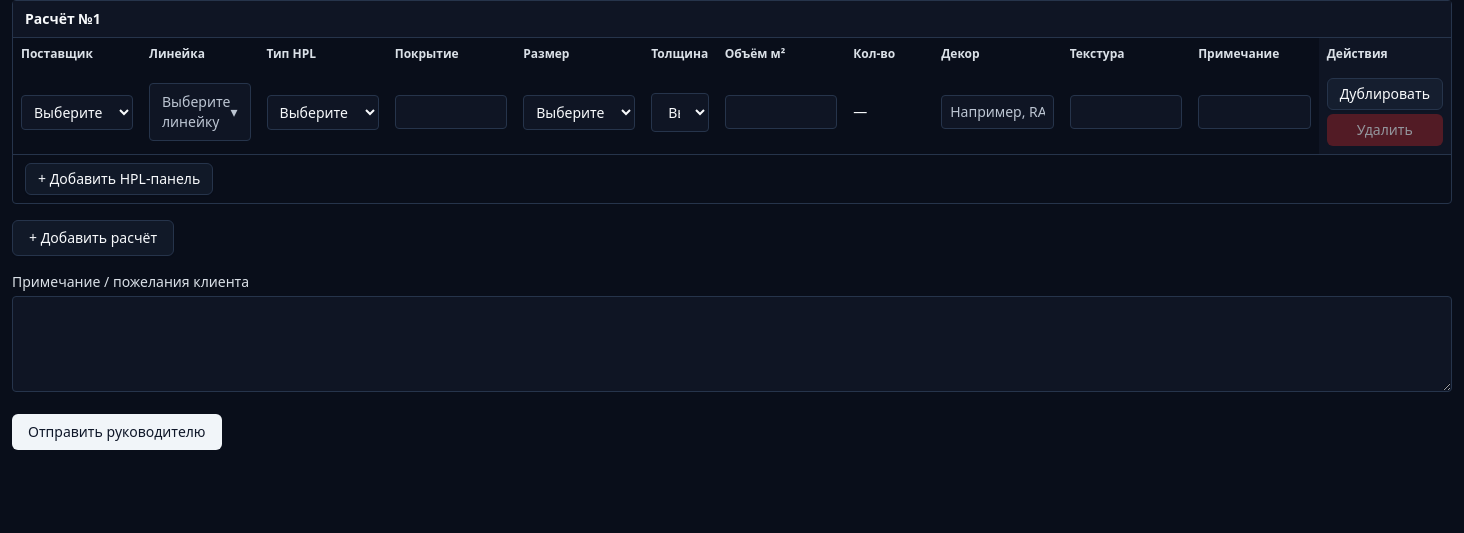
Scenario: CalculationRequestForm › shows customTypeDescription for catalog type other
Expected: the field labelled "Описание нестандартного типа" is not shown
Select "Другой" in the dropdown named "Тип HPL, строка 1" at (323, 112), box [267,94,379,130]
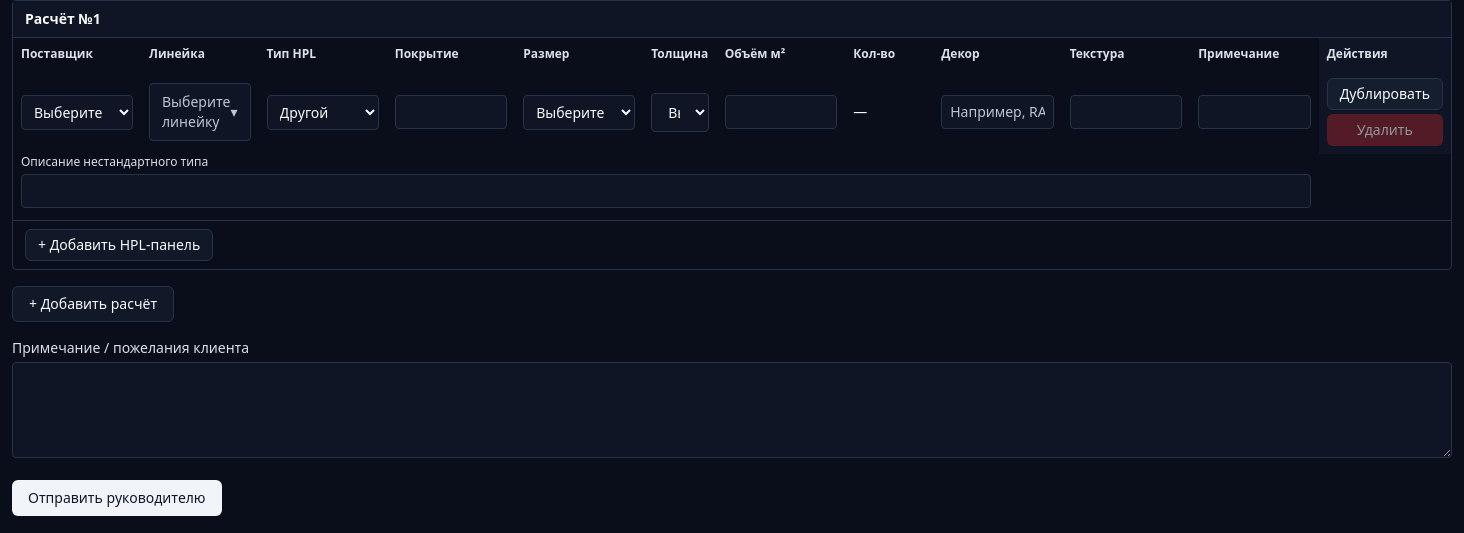
Expected: the field labelled "Описание нестандартного типа" is shown, [21,174,1311,208]
